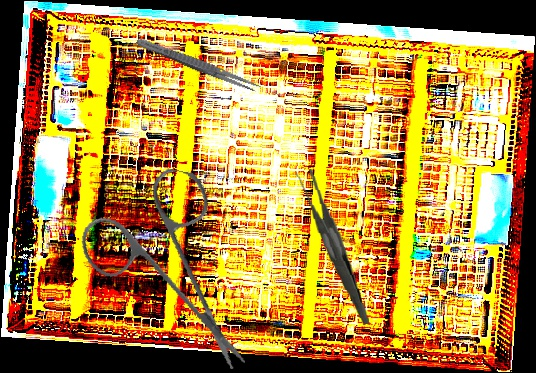Dressing Forceps: (296, 165, 369, 329), (134, 35, 263, 95)
Iris Scissors: (61, 153, 282, 372)
